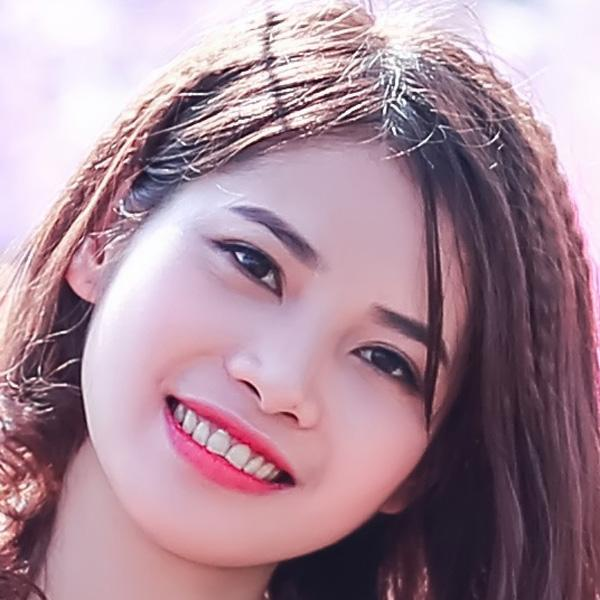Eyes: (196, 225, 294, 306), (344, 328, 428, 402)
